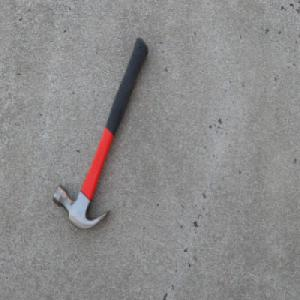Hammer: (52, 35, 148, 232)
